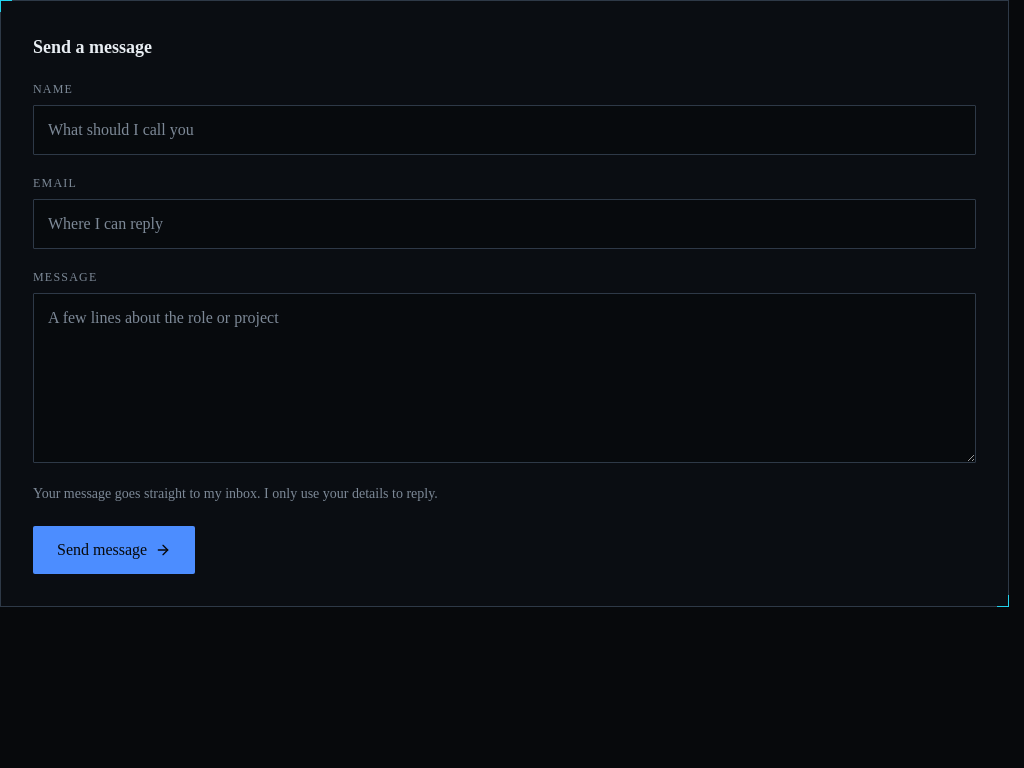
ContactForm › explains an invalid email and keeps what was typed
In the field labelled "Name": (504, 130) [33,105,976,155], type "Anna"
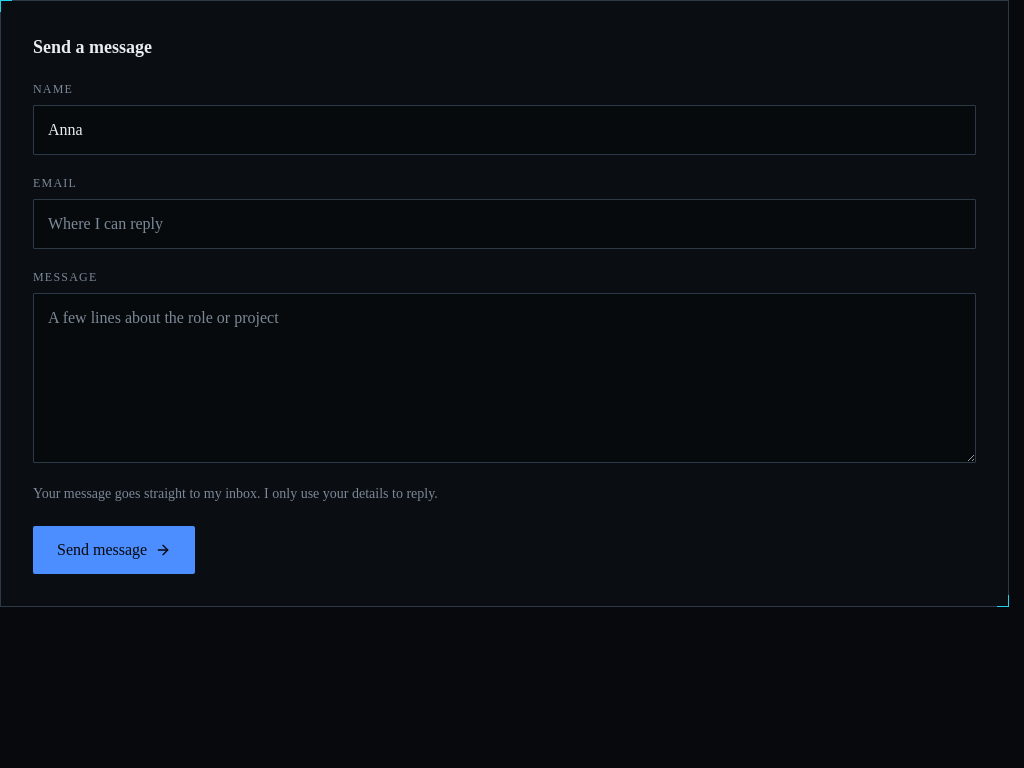
In the field labelled "Email": (504, 224) [33,199,976,249], type "anna@"
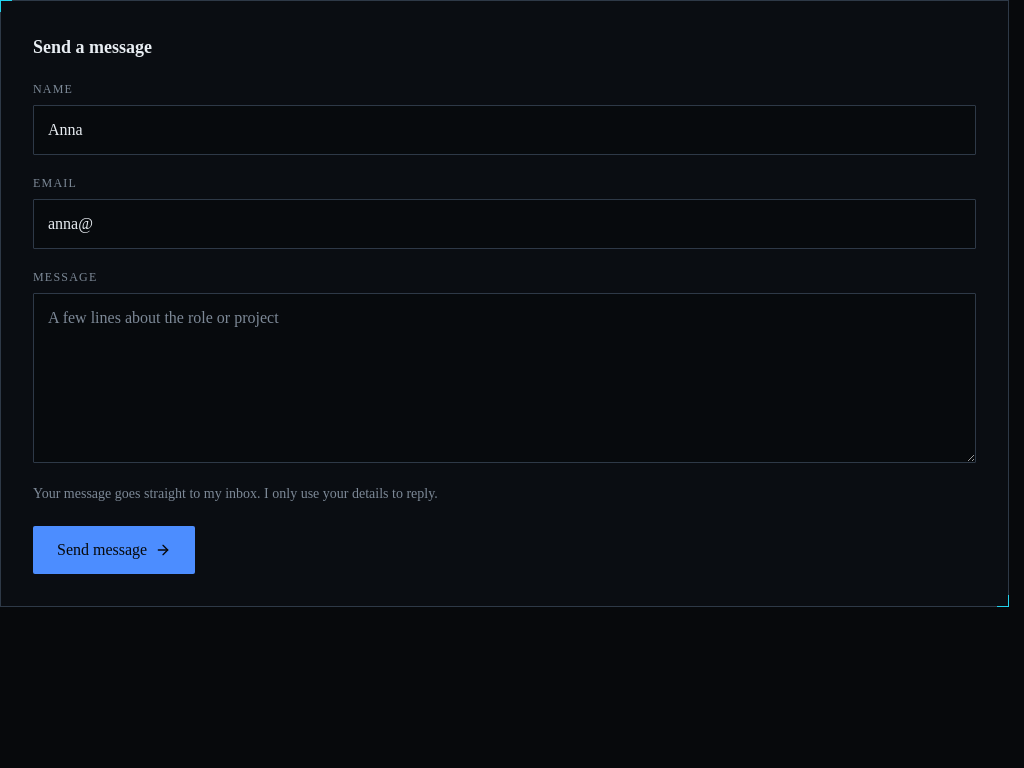
In the text box labelled "Message": (504, 378) [33,293,976,463], type "Szukamy inżyniera z kontekstem produkcyjnym."
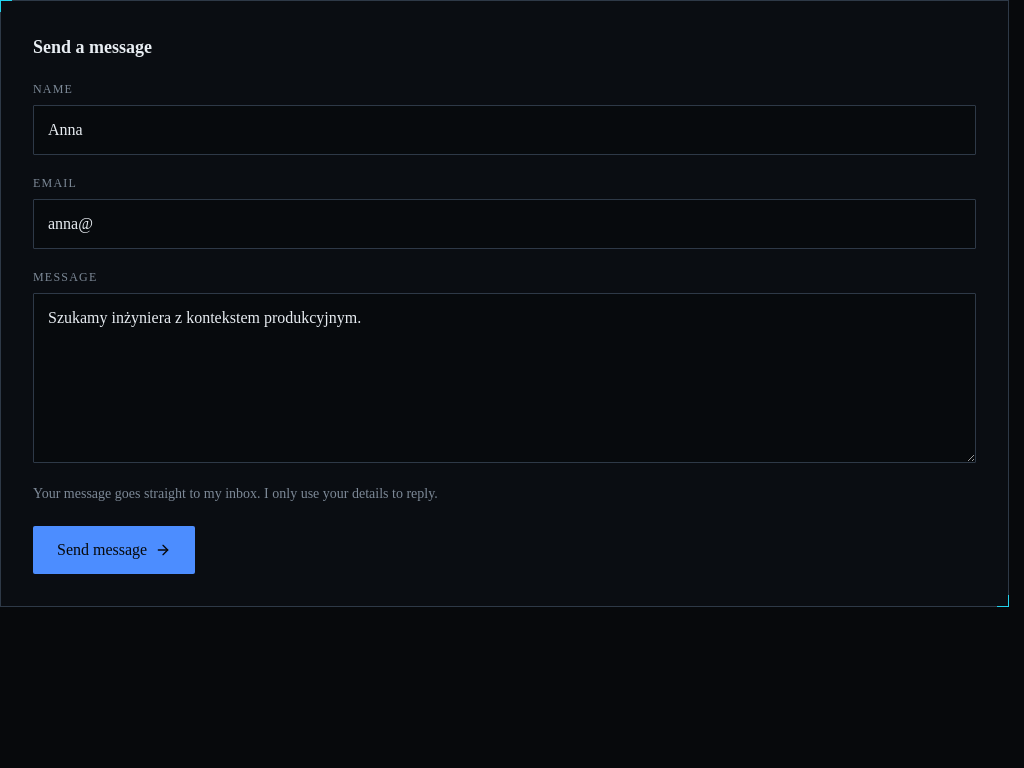
Submit the form "Send a message"
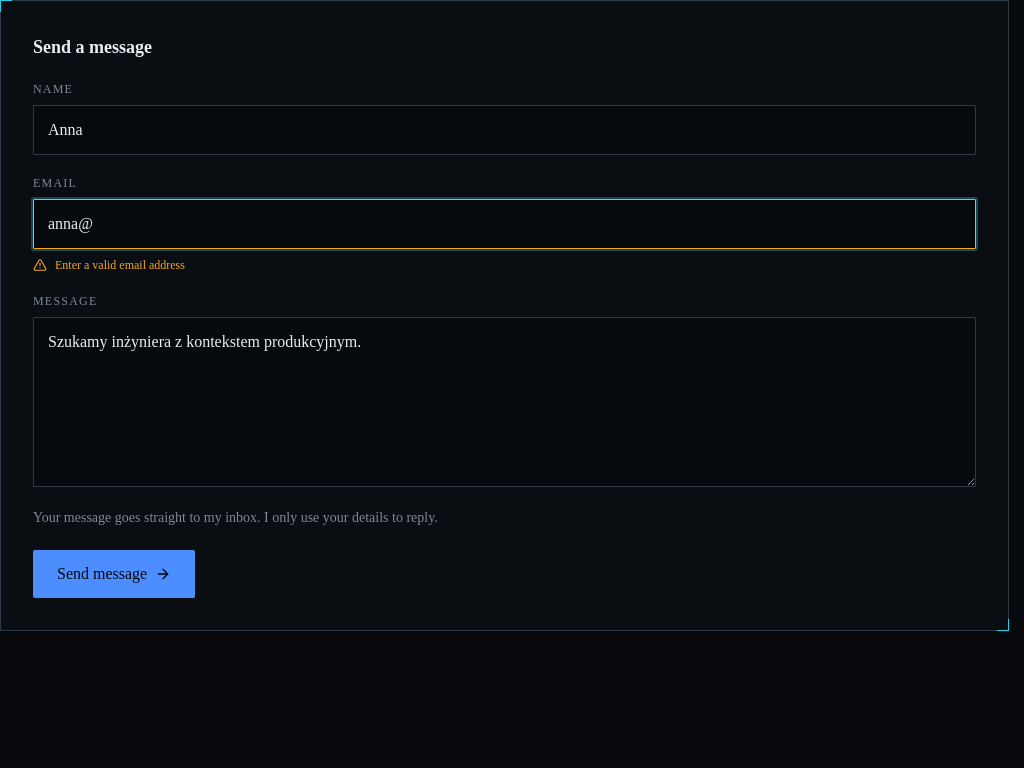
Result: the text "Enter a valid email address" is shown at [33,258,185,272]
